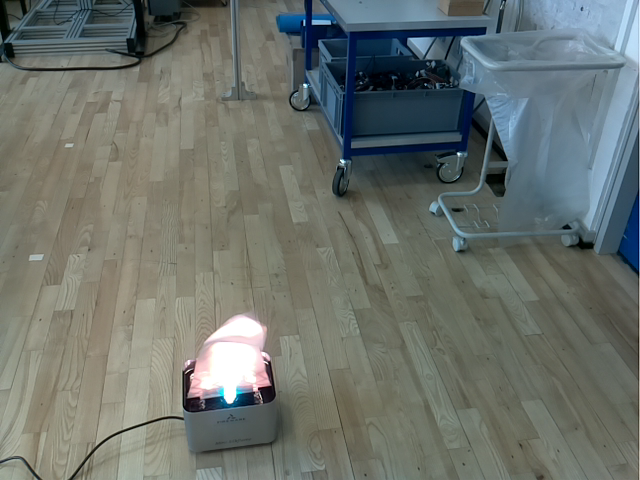fire: (185, 313, 271, 400)
